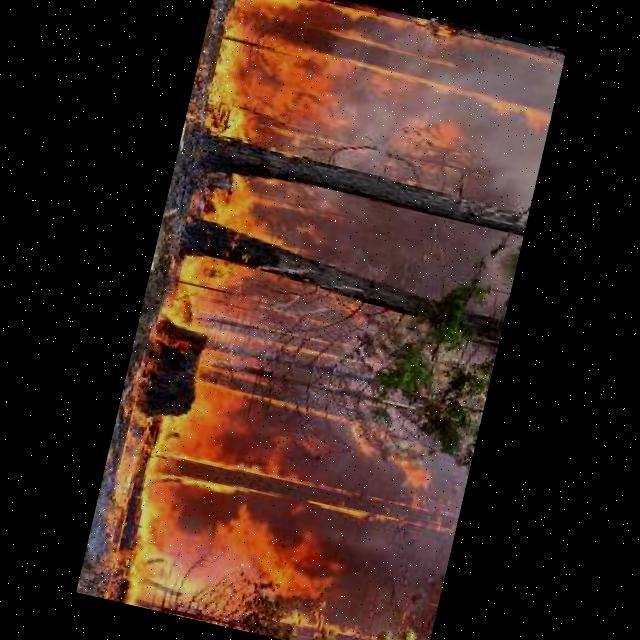fire: (92, 363, 381, 640), (196, 0, 412, 176), (196, 162, 312, 250), (161, 252, 259, 343)
